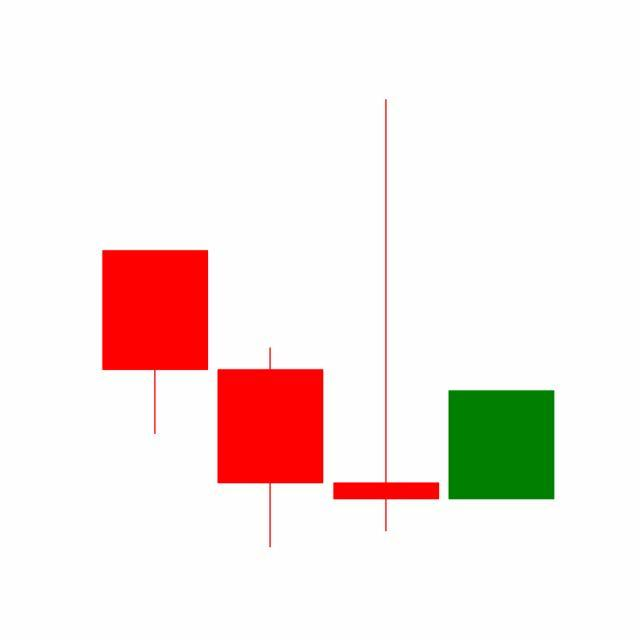Marubozu: (444, 390, 560, 502)
